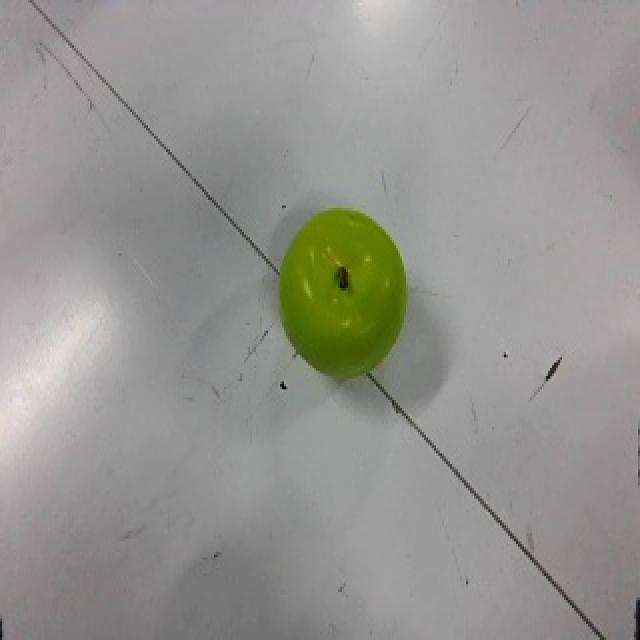apple: (279, 207, 409, 383)
